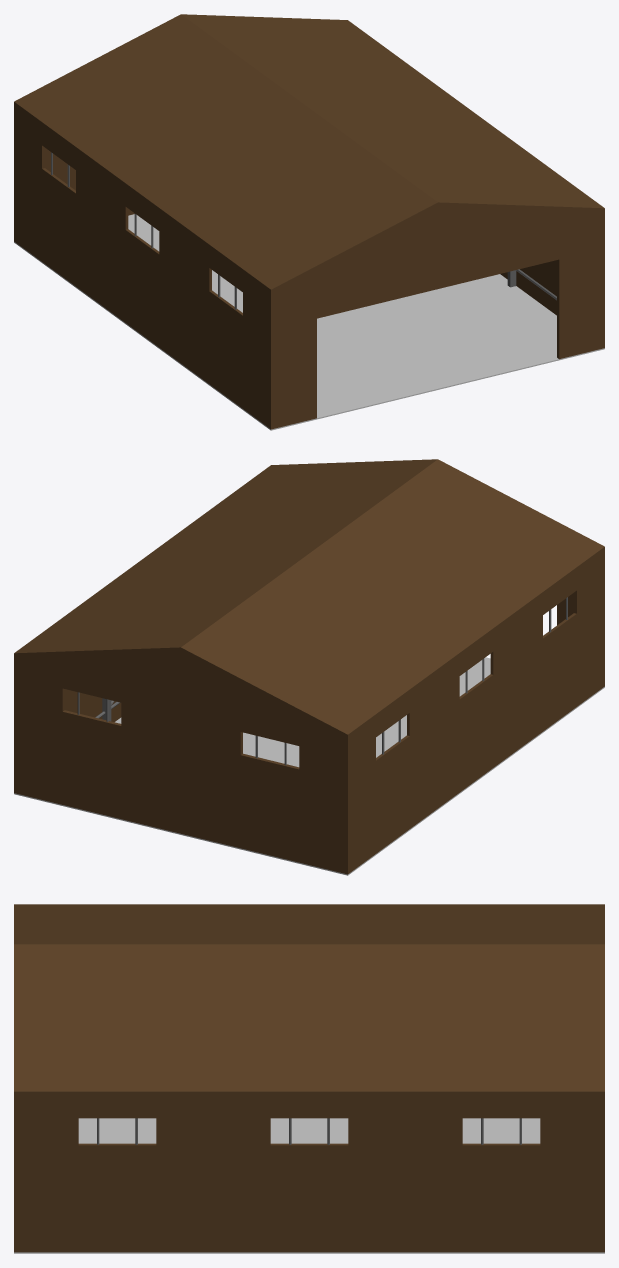
File: hangar.gltf
The picture shows the model from 3 angles, top to bottom: view 1: azimuth 30°, elevation 25°; view 2: azimuth 150°, elevation 25°; view 3: azimuth 270°, elevation 25°; orthographic projection. The views are drawn at different scales.
Parts seen in each view (by area): view 1: OuterStructure, Floor; view 2: OuterStructure, Floor; view 3: OuterStructure, Floor.
Boxes of the visible parts, <box> form: OuterStructure: <box>14,14,604,429</box>; Floor: <box>14,214,604,430</box>; OuterStructure: <box>14,459,604,874</box>; Floor: <box>14,657,604,875</box>; OuterStructure: <box>14,904,604,1252</box>; Floor: <box>14,1118,604,1253</box>.
Size of the model in its own units: 30 by 16.1 by 40.
